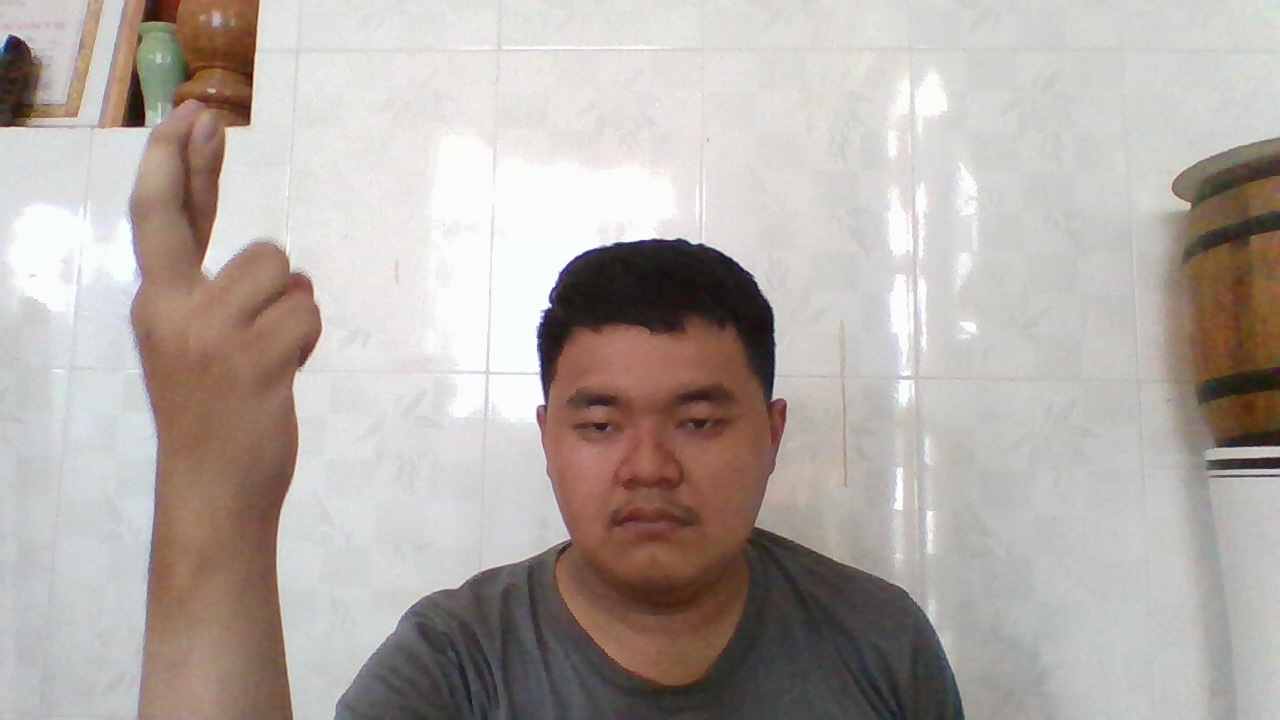R: (133, 93, 323, 509)
